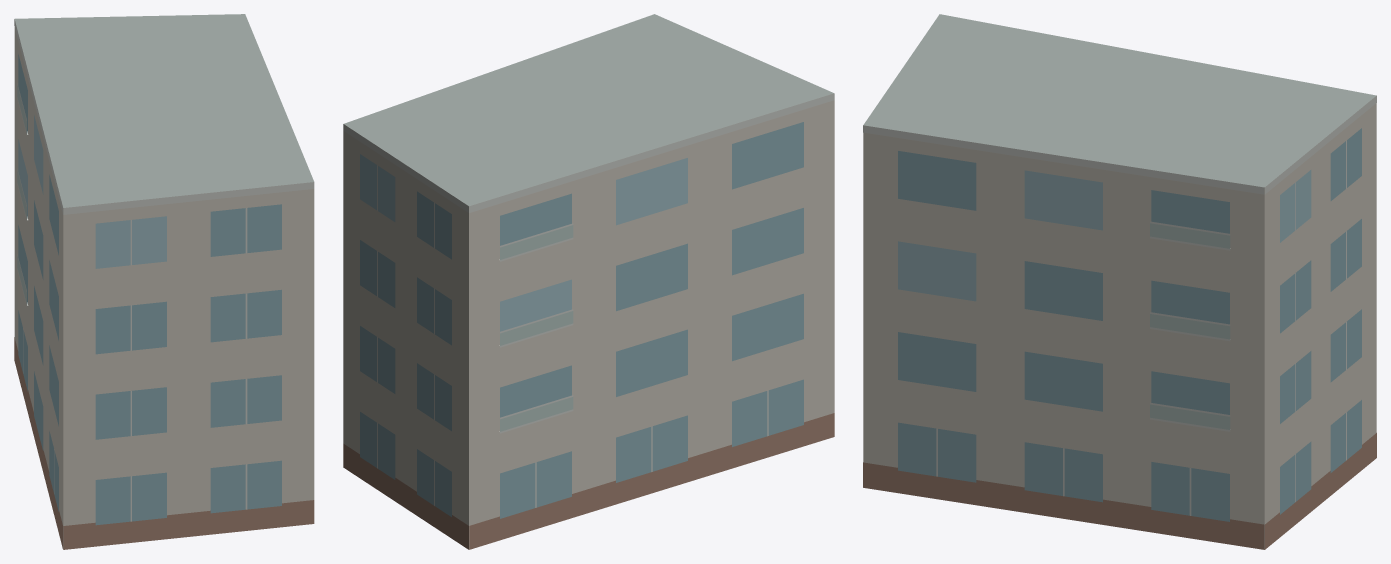
Rendered from survey-upis-33029457.glb.
3 views of the same model, side by side, from view 1: azimuth 30°, elevation 25°; view 2: azimuth 150°, elevation 25°; view 3: azimuth 270°, elevation 25° (orthographic). The views are drawn at different scales.
Parts seen in each view (by area): view 1: survey-upis-33029457.tmp; view 2: survey-upis-33029457.tmp; view 3: survey-upis-33029457.tmp.
Boxes of the visible parts, x1,y1,x2,y2 form: survey-upis-33029457.tmp: [14, 14, 314, 549]; survey-upis-33029457.tmp: [343, 14, 834, 549]; survey-upis-33029457.tmp: [863, 14, 1376, 549].
Bounding box in the file's own units: 12.53 × 12.2 × 15.68.
